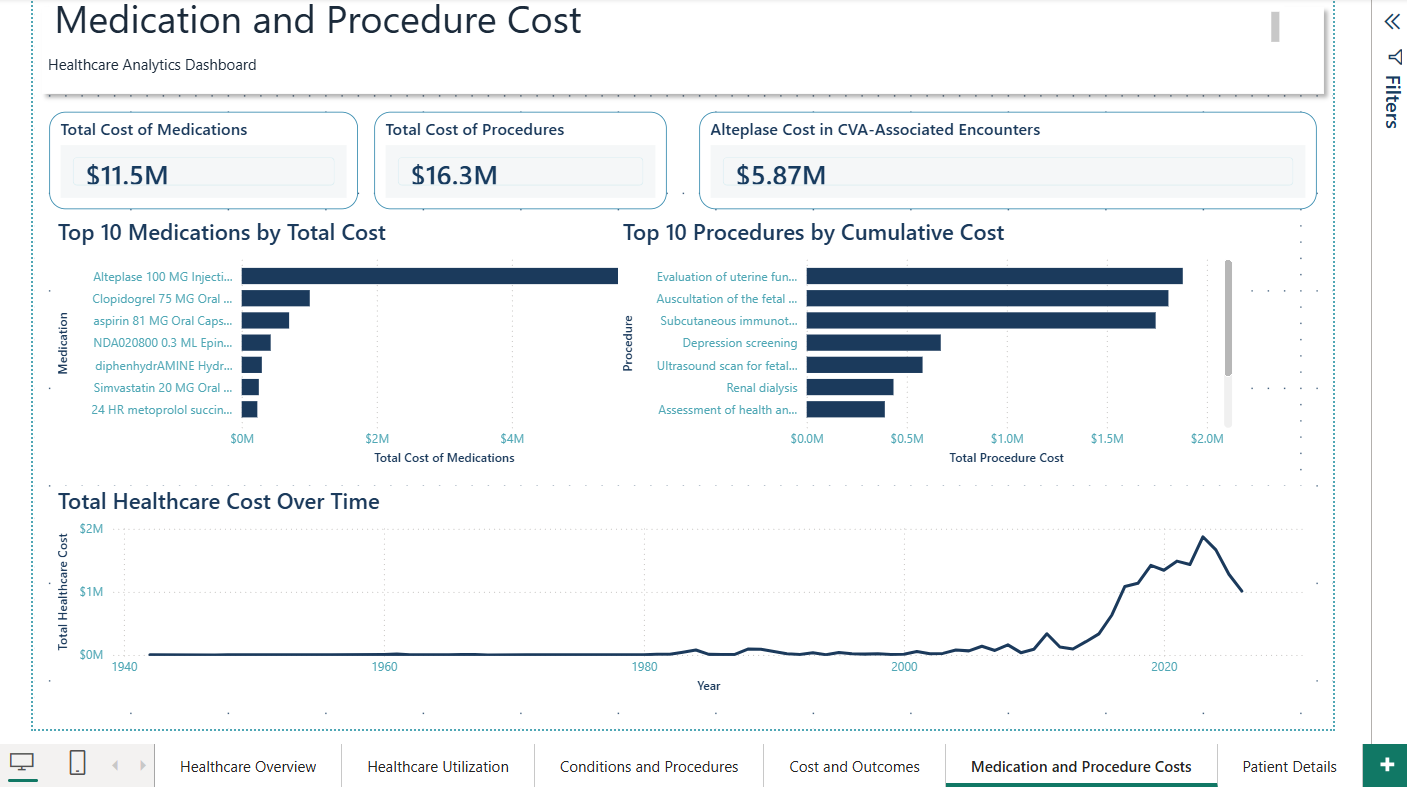

This screenshot's page, from the dashboard's own definition file:
{"tool":"powerbi","page":{"name":"Medication and Procedure Costs","canvas":[1280,720],"ordinal":4},"visuals":[{"type":"clusteredBarChart","title":"Top 10 Medications by Total Cost","fields":{"Category":["medications_clean.description"],"Y":["Measures (2).Total Cost of Medications"]},"box":[20,215,610,250],"z":0},{"type":"cardVisual","title":"Total Cost of Medications","fields":{"Data":["Measures (2).Total Cost of Medications"]},"box":[16,112,304,96],"z":1000},{"type":"cardVisual","title":"Total Cost of Procedures","fields":{"Data":["Measures (2).Total Procedure Cost"]},"box":[336,112,288,96],"z":2000},{"type":"clusteredBarChart","title":"Top 10 Procedures by Cumulative Cost","fields":{"Category":["procedures_clean.description"],"Y":["Measures (2).Total Procedure Cost"]},"box":[576,215,610,250],"z":3000},{"type":"lineChart","title":"Total Healthcare Cost Over Time","fields":{"Category":["DATE.Year"],"Y":["Measures (2).Total Healthcare Cost"]},"box":[20,480,1240,210],"z":4000},{"type":"cardVisual","title":"Alteplase Cost in CVA-Associated Encounters","fields":{"Data":["Measures (2).Alteplase Cost in CVA Encounters"]},"box":[656,112,608,96],"z":5000},{"type":"shape","box":[0,0,1280,103.3],"z":6000},{"type":"textbox","box":[16,0,1216,48],"z":7000},{"type":"textbox","box":[10,50,391,32],"z":8000}]}

Visuals, with their boxes on the page's 1280x720 design canvas (x1, y1, x2, y2). These are canvas units, not pixel positions in the 1407x787 screenshot, which may show the page scaled, cropped or inside an application window:
"Top 10 Medications by Total Cost" clusteredBarChart: [20,215,630,465]
"Total Cost of Medications" cardVisual: [16,112,320,208]
"Total Cost of Procedures" cardVisual: [336,112,624,208]
"Top 10 Procedures by Cumulative Cost" clusteredBarChart: [576,215,1186,465]
"Total Healthcare Cost Over Time" lineChart: [20,480,1260,690]
"Alteplase Cost in CVA-Associated Encounters" cardVisual: [656,112,1264,208]
shape: [0,0,1280,103]
textbox: [16,0,1232,48]
textbox: [10,50,401,82]
